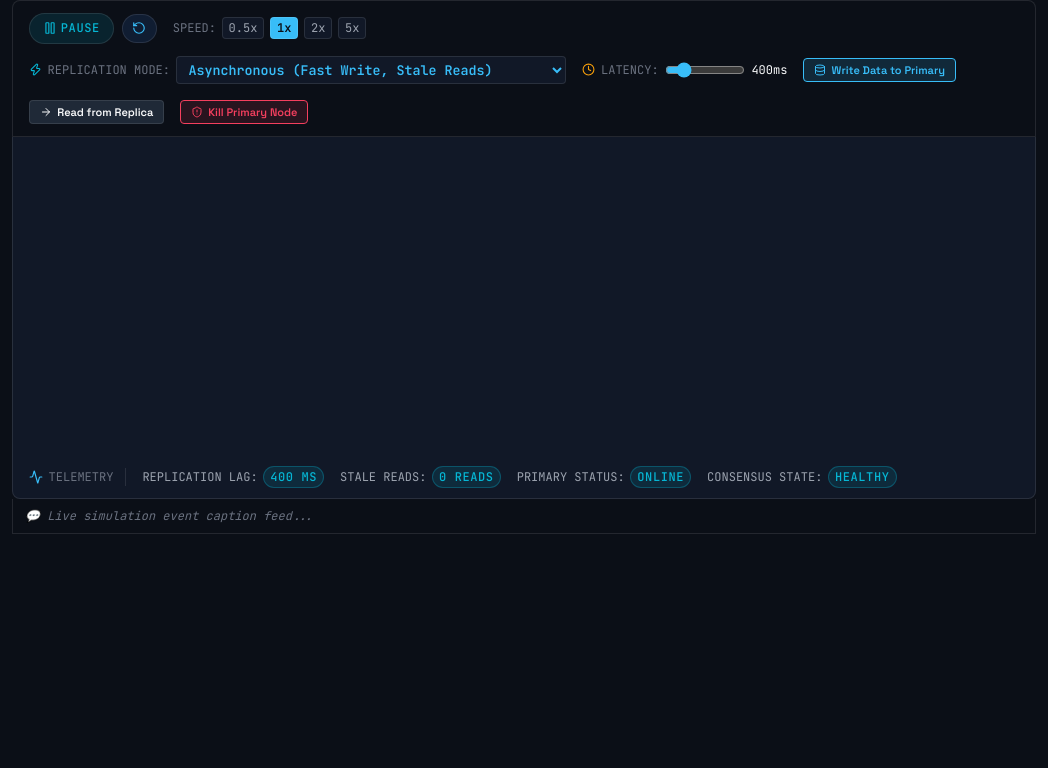
Test: ReplicationVisualizer (Catalog Viz #3) › handles Write Data button click
Click the button "Write Data to Primary".
click(880, 70)  # box top-left (803, 58), bottom-right (956, 82)
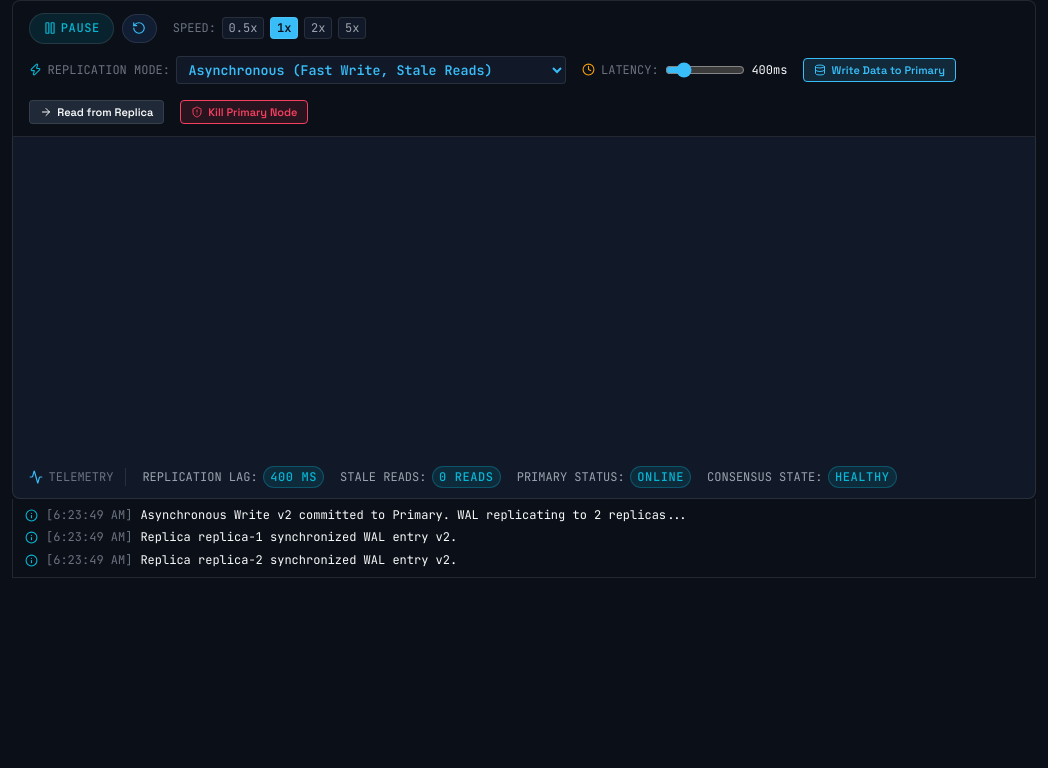
Now the text "Asynchronous Write v2 committed to Primary" is shown, box top-left (140, 507), bottom-right (688, 523)
